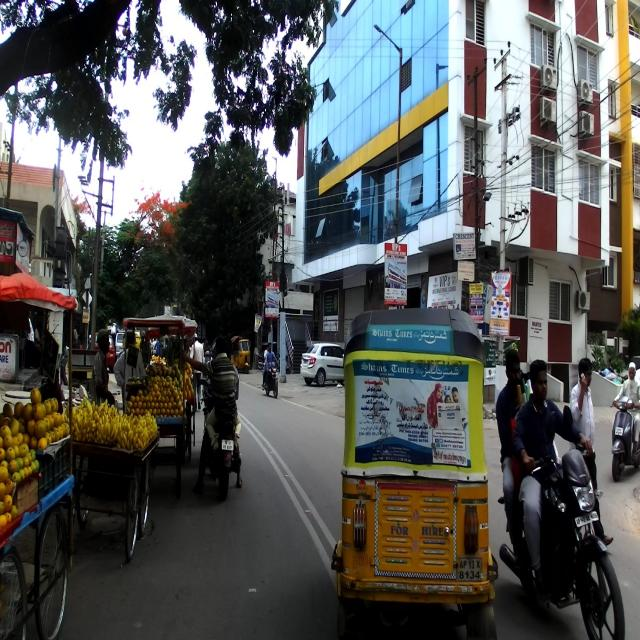autorickshaw: (330, 305, 499, 638)
motorcycle: (497, 402, 625, 638), (199, 369, 240, 504)
scooter: (612, 396, 640, 484)
